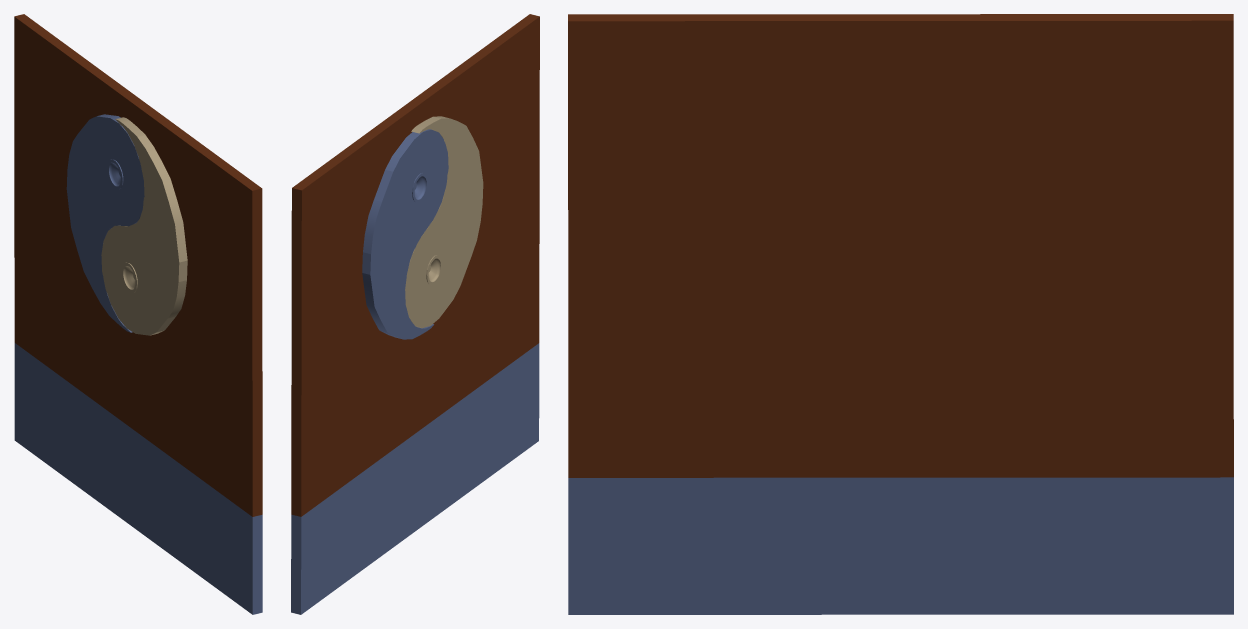
Rendered from YY Doors.fbx.
3 renders of one model, left to right at view 1: azimuth 30°, elevation 25°; view 2: azimuth 150°, elevation 25°; view 3: azimuth 270°, elevation 25°, orthographic. The views are drawn at different scales.
Parts seen in each view (by area): view 1: YY_Door1, YY_Door2, yinyang_1, yinyang_2; view 2: YY_Door2, YY_Door1, yinyang_2, yinyang_1; view 3: YY_Door2, YY_Door1.
Boxes of the visible parts, box(x1,y1,x2,y2) form: YY_Door1: box(133, 101, 262, 614); YY_Door2: box(14, 14, 142, 527); yinyang_1: box(101, 117, 187, 335); yinyang_2: box(66, 114, 144, 332); YY_Door2: box(291, 101, 420, 614); YY_Door1: box(411, 14, 539, 527); yinyang_2: box(362, 129, 448, 339); yinyang_1: box(405, 116, 483, 328); YY_Door2: box(900, 14, 1233, 614); YY_Door1: box(568, 14, 901, 614).
Size of the model in its own units: 8.81 by 181 by 184.
